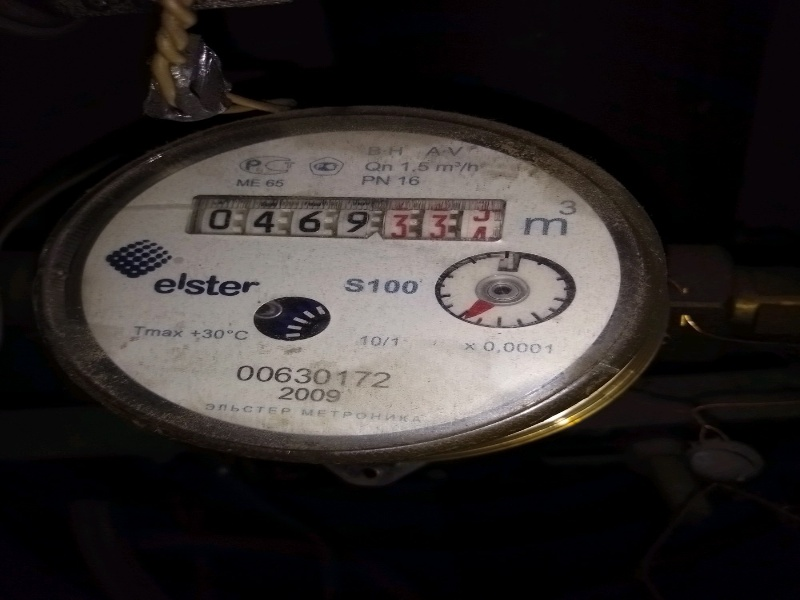meter: (186, 200, 494, 245)
